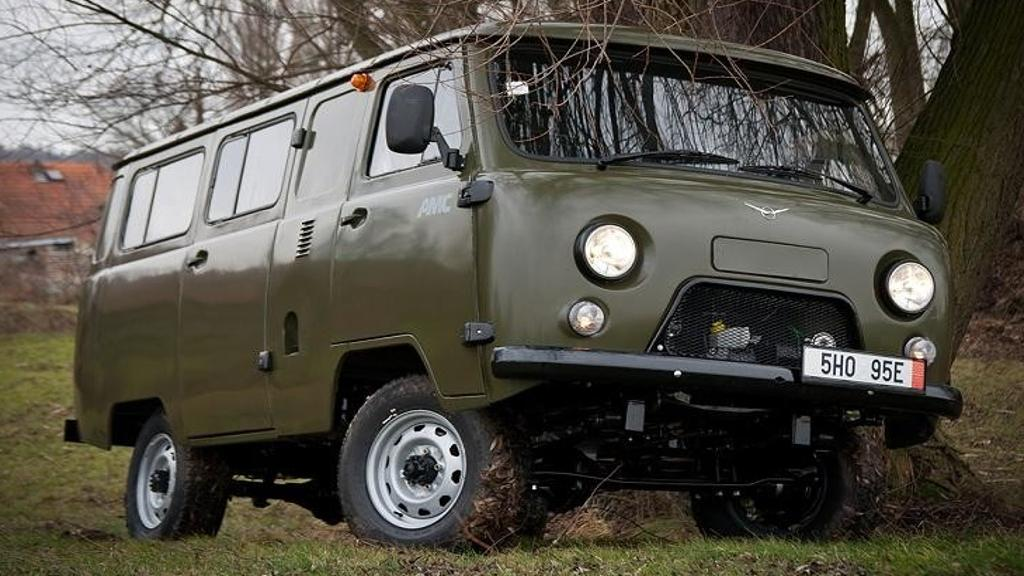CAR: (58, 19, 964, 548)
